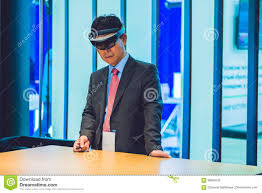hololens: (86, 21, 126, 52)
